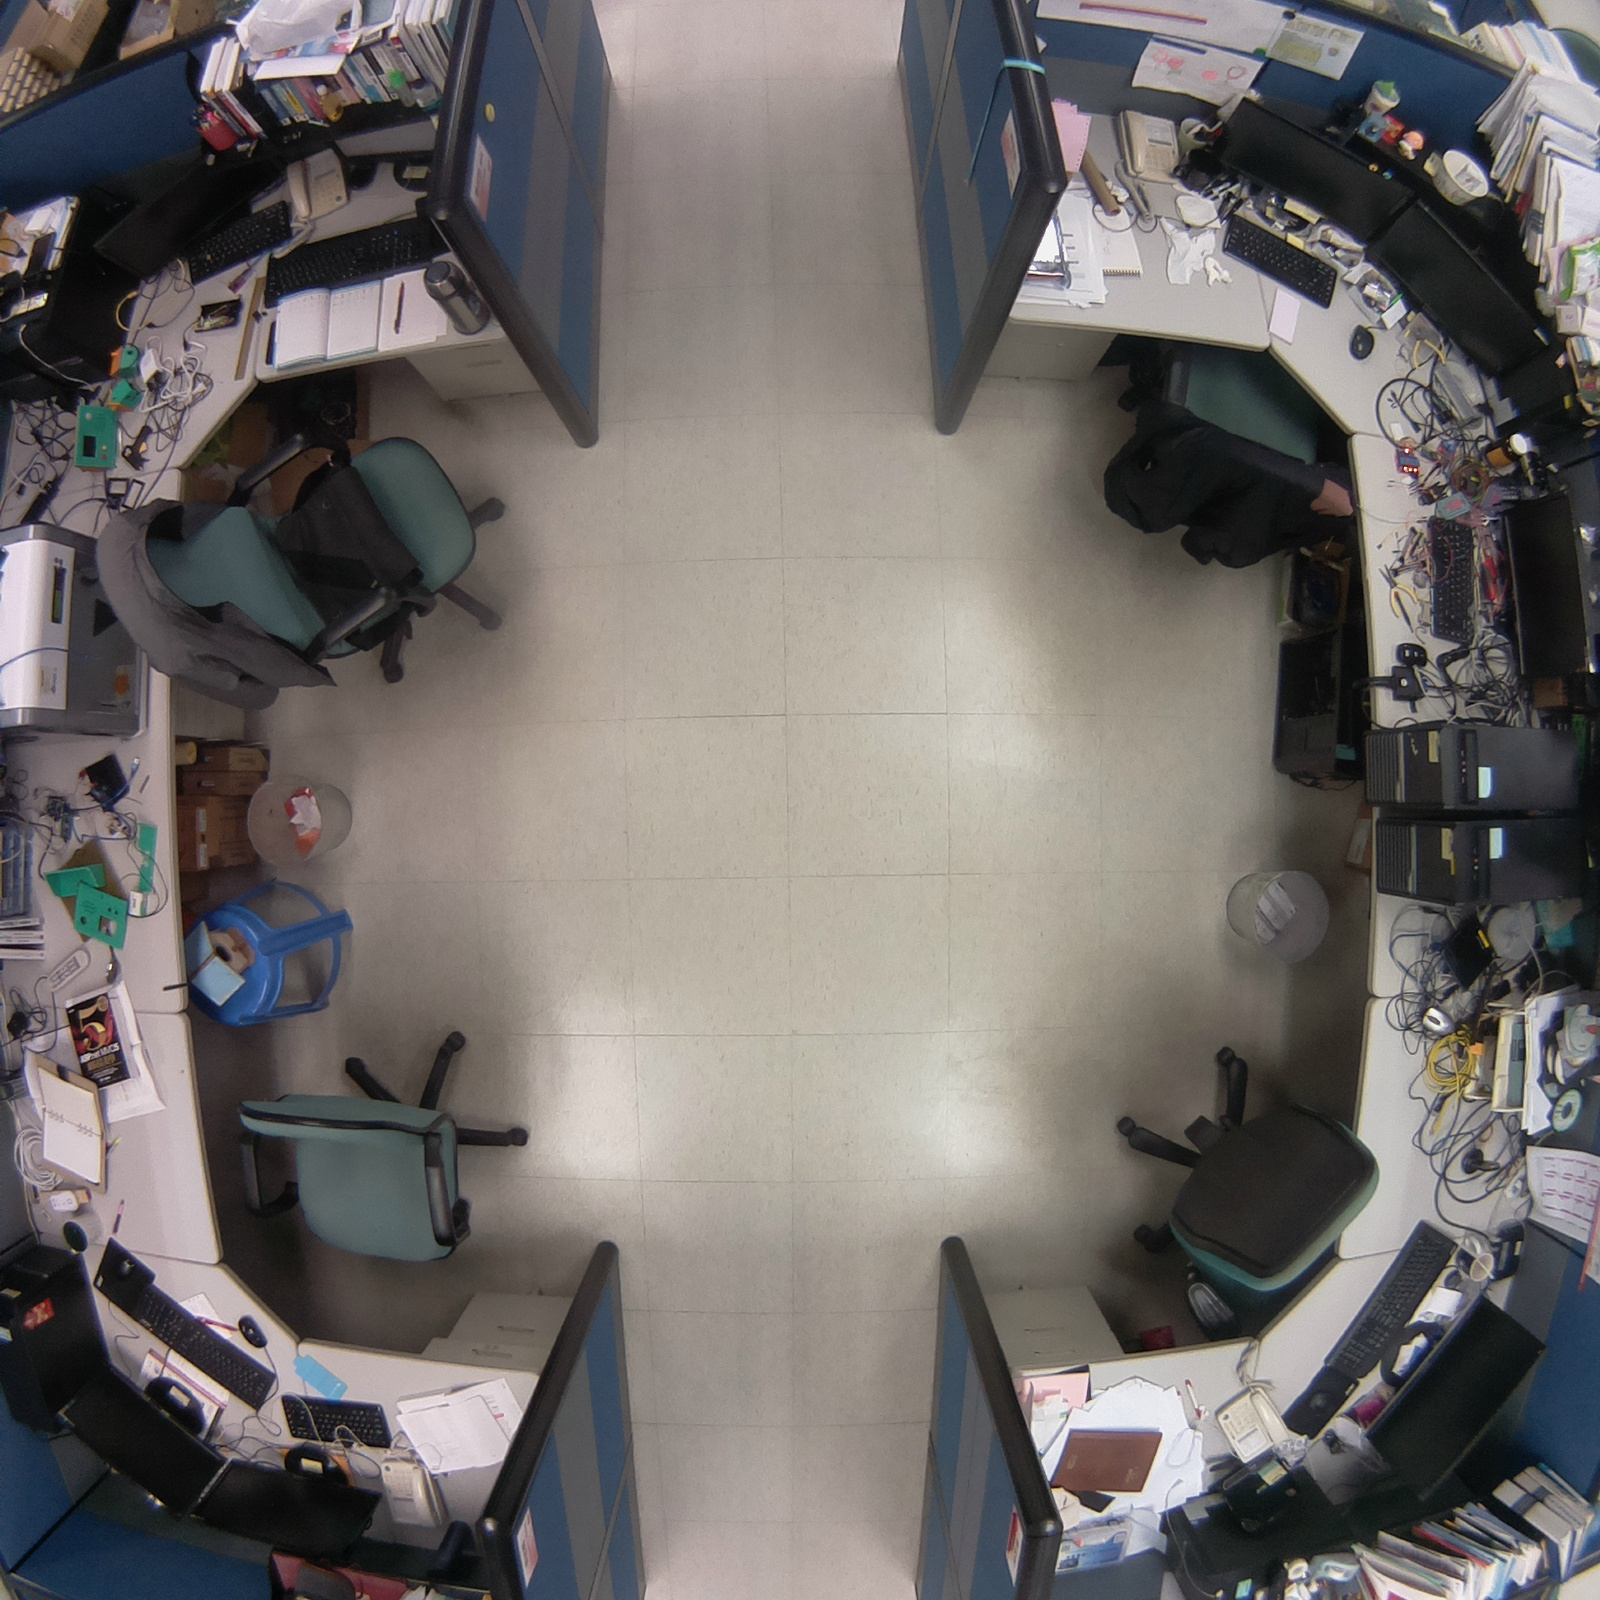chair: (88, 399, 539, 730), (1089, 1033, 1392, 1358), (210, 1012, 552, 1281), (1089, 309, 1374, 588)
